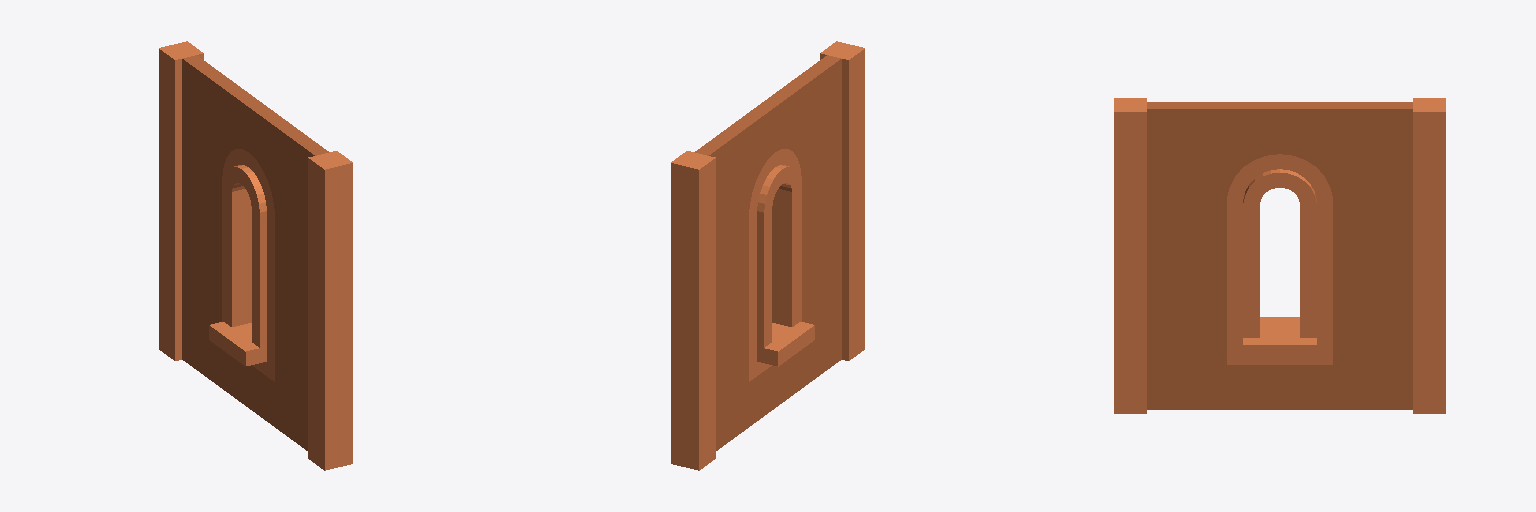
Rendered from wallWoodWindowRound.obj.
3 views of the same model, side by side, from view 1: azimuth 30°, elevation 25°; view 2: azimuth 150°, elevation 25°; view 3: azimuth 270°, elevation 25° (orthographic).
Parts seen in each view (by area): view 1: wallWoodWindowRound; view 2: wallWoodWindowRound; view 3: wallWoodWindowRound.
Boxes of the visible parts, x1,y1,x2,y2 form: wallWoodWindowRound: [159, 41, 352, 470]; wallWoodWindowRound: [671, 41, 864, 470]; wallWoodWindowRound: [1114, 98, 1445, 413].
Bounding box in the file's own units: 0.2 × 1 × 1.